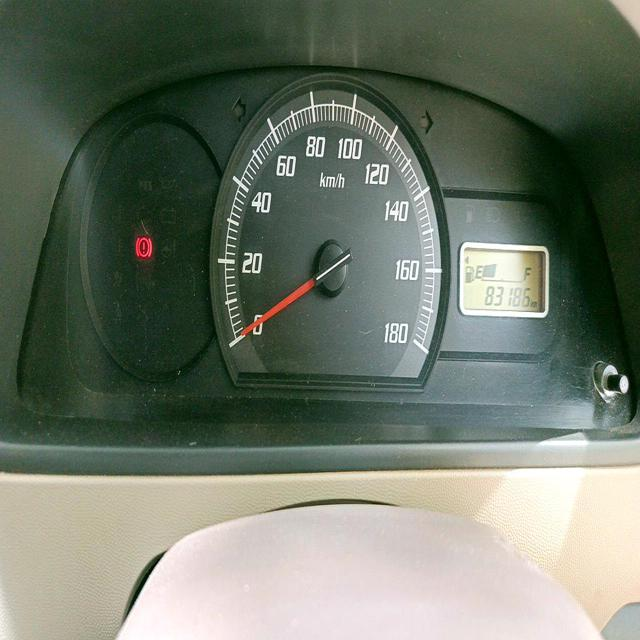odometer: (482, 280, 532, 312)
